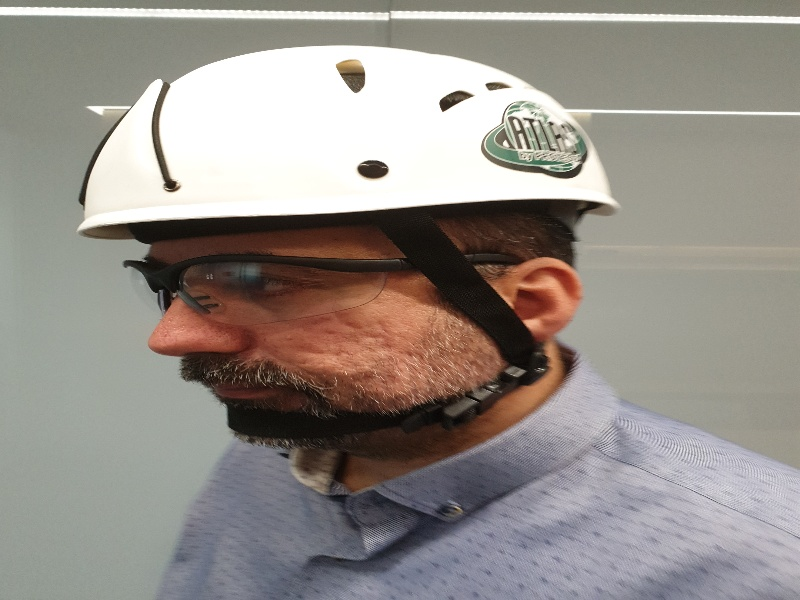Baret: (80, 44, 616, 223)
Gozluk: (120, 253, 510, 314)
